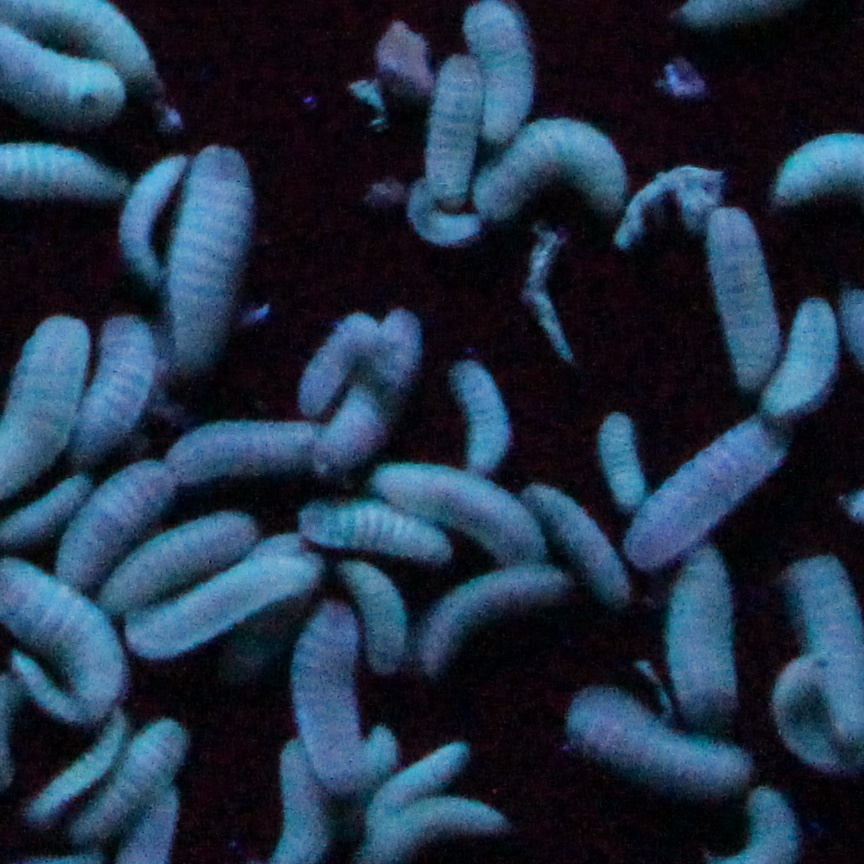larve: (626, 402, 794, 569), (559, 686, 759, 806), (281, 606, 399, 791), (312, 302, 437, 458), (170, 138, 254, 366), (375, 458, 546, 566), (95, 509, 255, 624), (137, 556, 314, 658), (659, 535, 752, 729), (415, 558, 568, 671), (66, 706, 188, 846), (46, 311, 165, 451), (699, 204, 786, 393), (523, 473, 635, 609), (57, 455, 166, 591), (474, 118, 626, 215), (10, 711, 130, 818), (161, 415, 335, 484), (301, 500, 461, 569), (365, 735, 474, 827), (757, 296, 834, 418), (106, 158, 185, 276), (445, 362, 519, 473), (337, 566, 410, 673), (305, 315, 377, 409), (590, 406, 657, 506), (432, 55, 475, 202), (401, 182, 485, 244)
